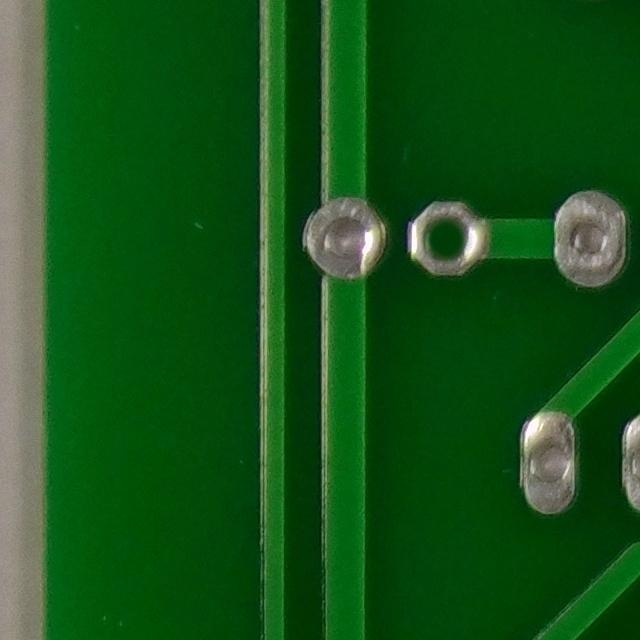missing_hole: (411, 207, 476, 273)
